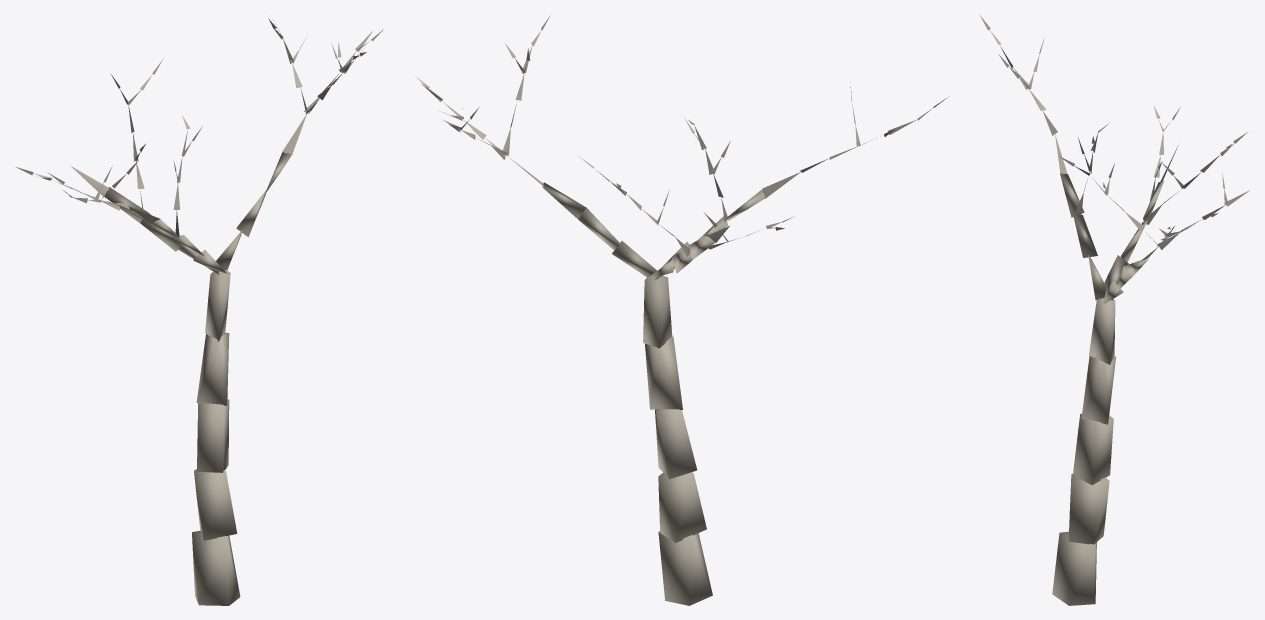
File: tree_dead_a_LOD2.glb
The picture shows the model from 3 angles, left to right: view 1: azimuth 30°, elevation 25°; view 2: azimuth 150°, elevation 25°; view 3: azimuth 270°, elevation 25°; orthographic projection. The views are drawn at different scales.
Parts seen in each view (by area): view 1: tree_dead_a_LOD2; view 2: tree_dead_a_LOD2; view 3: tree_dead_a_LOD2.
Boxes of the visible parts, x1,y1,x2,y2 form: tree_dead_a_LOD2: (16,18,384,605); tree_dead_a_LOD2: (415,15,947,605); tree_dead_a_LOD2: (979,14,1249,605).
Bounding box in the file's own units: 6.16 × 7.3 × 3.52.
